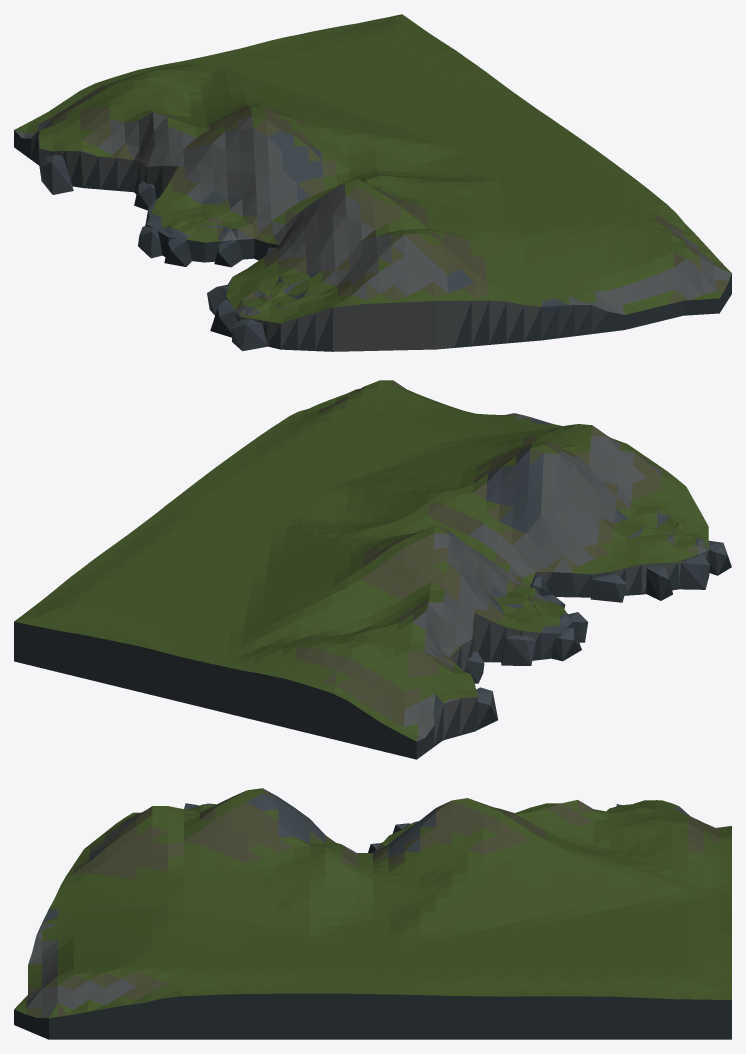
Rendered from mainland_headland.glb.
The picture shows the model from 3 angles, top to bottom: view 1: azimuth 30°, elevation 25°; view 2: azimuth 150°, elevation 25°; view 3: azimuth 270°, elevation 25°; orthographic projection. The views are drawn at different scales.
Parts seen in each view (by area): view 1: Mainland headland continuous bedrock and grass terraces; view 2: Mainland headland continuous bedrock and grass terraces; view 3: Mainland headland continuous bedrock and grass terraces.
Part boxes in pixels (x1,y1,x2,y2): Mainland headland continuous bedrock and grass terraces: [14, 14, 731, 351]; Mainland headland continuous bedrock and grass terraces: [14, 380, 731, 759]; Mainland headland continuous bedrock and grass terraces: [14, 788, 731, 1039].
Size of the model in its own units: 293 by 68.9 by 410.
